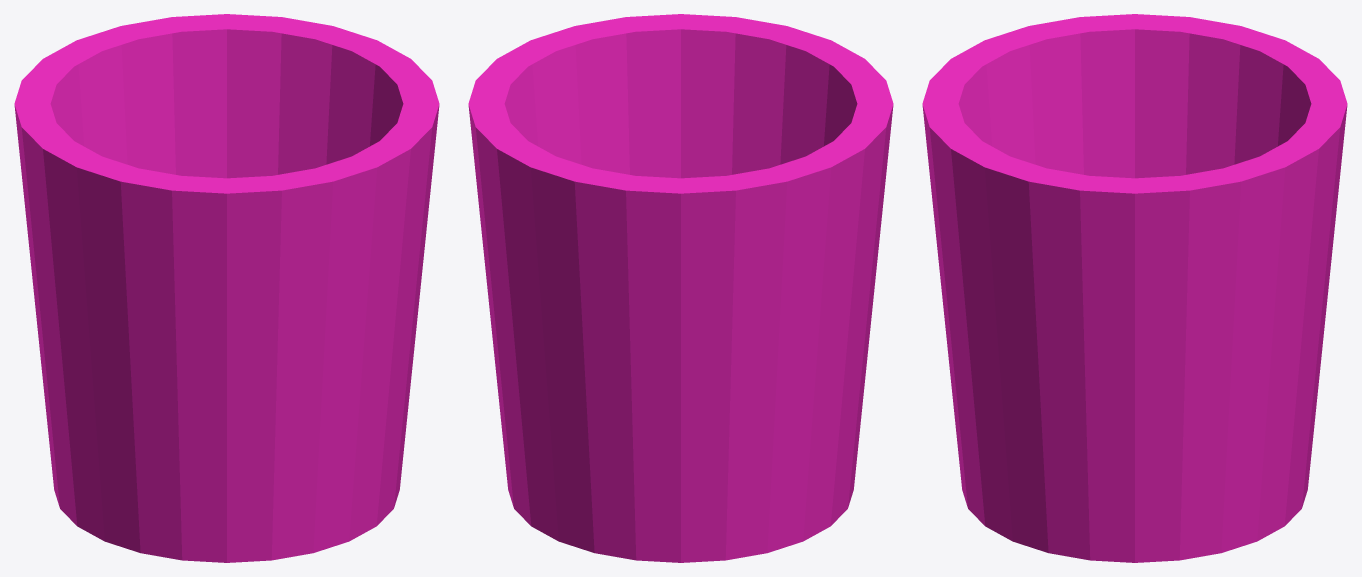
Rendered from bar.dae.
3 renders of one model, left to right at view 1: azimuth 30°, elevation 25°; view 2: azimuth 150°, elevation 25°; view 3: azimuth 270°, elevation 25°, orthographic.
Parts seen in each view (by area): view 1: skpBE32; view 2: skpBE32; view 3: skpBE32.
Part boxes in pixels (box(x1,y1,x2,y2)): skpBE32: box(14, 14, 439, 562); skpBE32: box(468, 14, 893, 562); skpBE32: box(922, 14, 1347, 562).
Size of the model in its own units: 15405 by 15405 by 15438.
